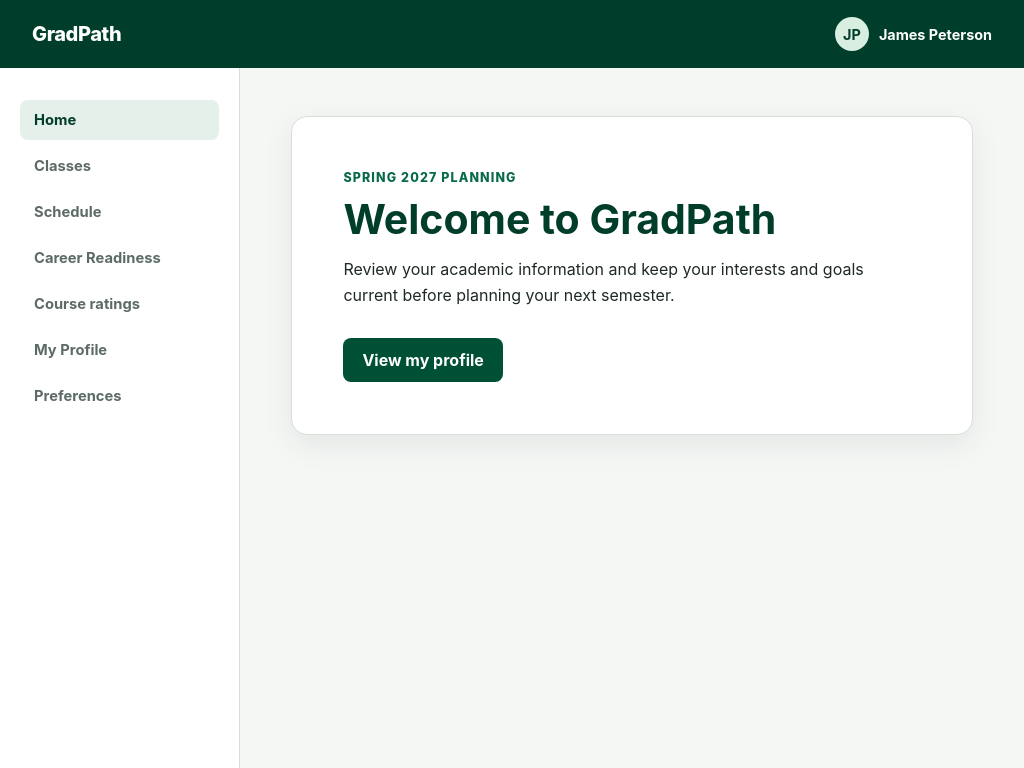
Test: GradPath application shell › opens the student profile from a visible navigation action
Click the link "View my profile" at point(423, 360), box [343, 338, 503, 382]
(page scrolled)
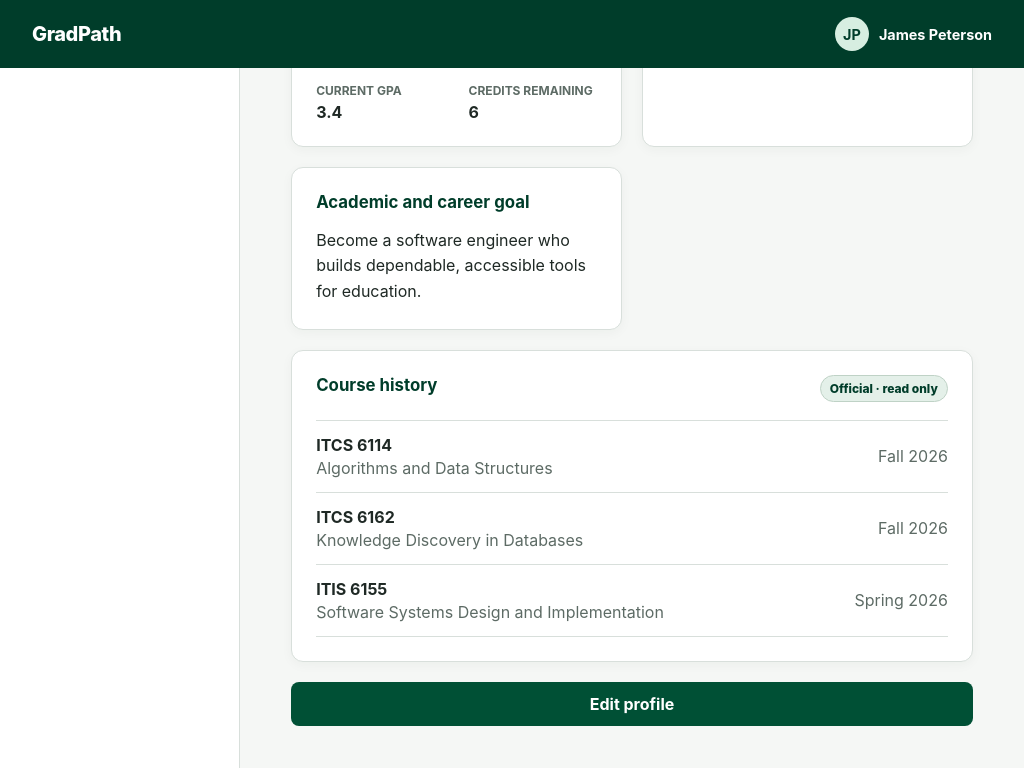
expect the heading "Course history" is shown: met, box [316, 375, 437, 395]
